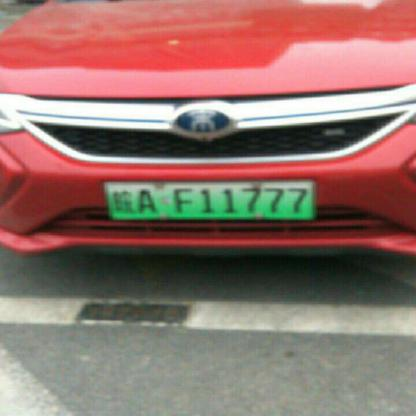lp: (106, 182, 314, 218)
